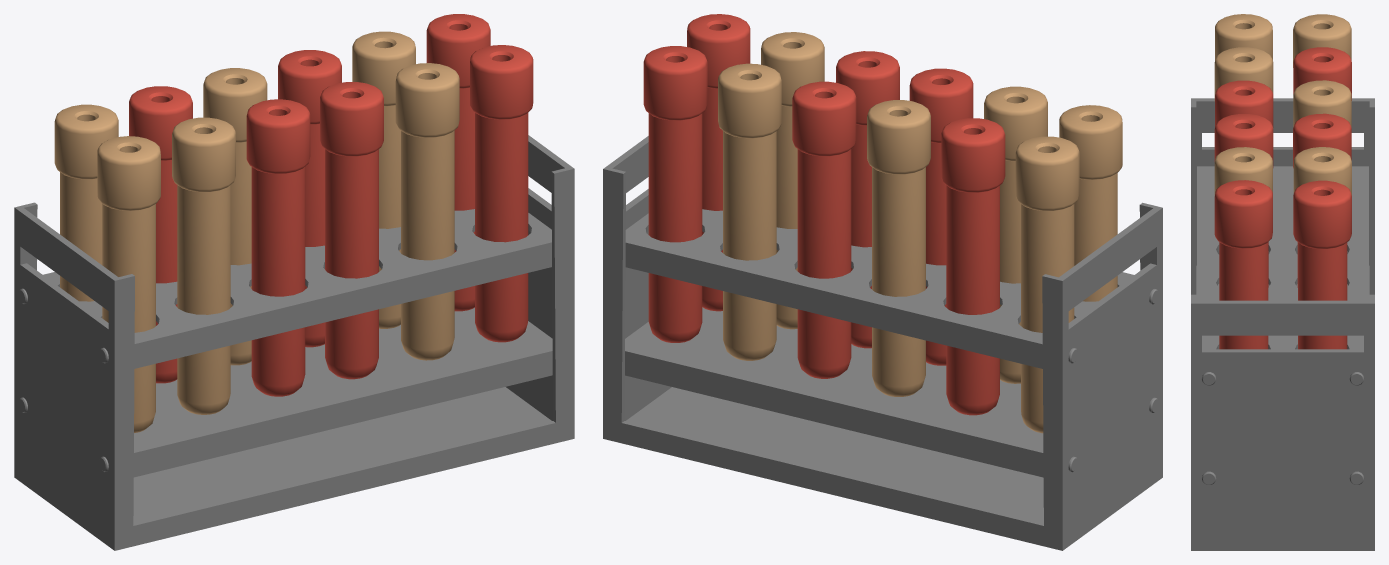
The model's file is kantüpleri-toplu.fbx.
The picture shows the model from 3 angles, left to right: view 1: azimuth 30°, elevation 25°; view 2: azimuth 150°, elevation 25°; view 3: azimuth 270°, elevation 25°; orthographic projection. The views are drawn at different scales.
Parts seen in each view (by area): view 1: Rack_Rack_0; view 2: Rack_Rack_0; view 3: Rack_Rack_0.
Part boxes in pixels (box(x1,y1,x2,y2)): Rack_Rack_0: box(14, 14, 574, 550); Rack_Rack_0: box(603, 14, 1162, 550); Rack_Rack_0: box(1191, 14, 1374, 550).
Size of the model in its own units: 142 by 109 by 53.12.
